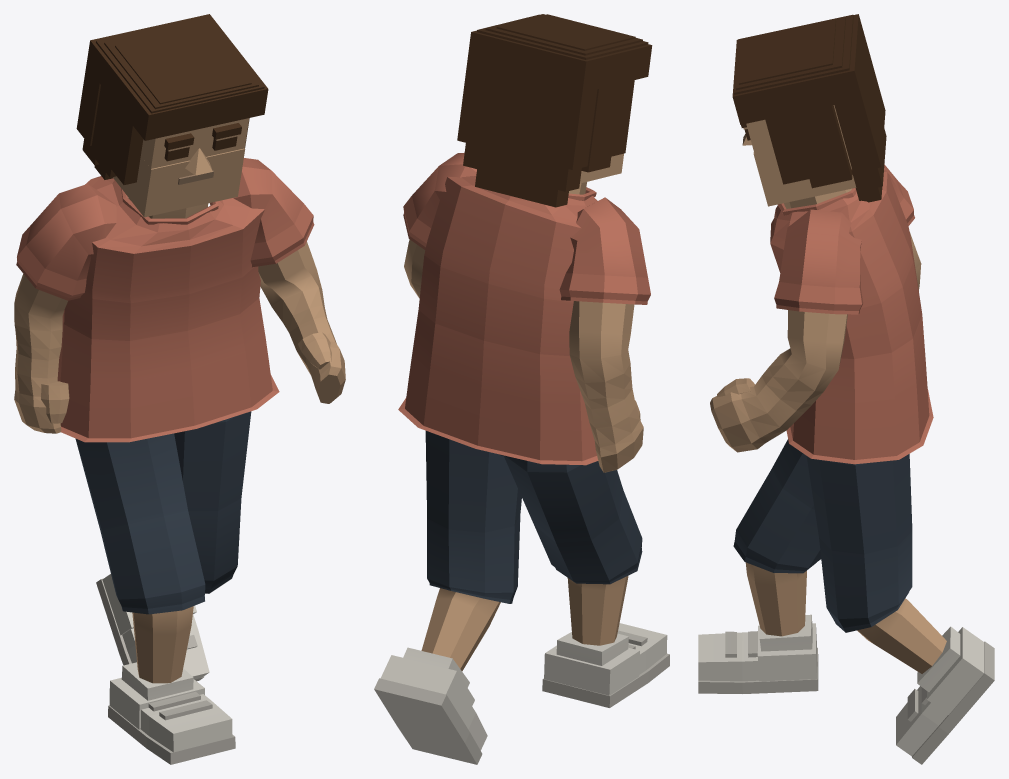
Rendered from neighborhood-child-8cc5ac__walk5.glb.
3 renders of one model, left to right at view 1: azimuth 30°, elevation 25°; view 2: azimuth 150°, elevation 25°; view 3: azimuth 270°, elevation 25°, orthographic. The views are drawn at different scales.
Parts seen in each view (by area): view 1: neighborhood-child-8cc5ac__walk5; view 2: neighborhood-child-8cc5ac__walk5; view 3: neighborhood-child-8cc5ac__walk5.
Part boxes in pixels (x1,y1,x2,y2): neighborhood-child-8cc5ac__walk5: (14,14,345,764); neighborhood-child-8cc5ac__walk5: (374,14,669,764); neighborhood-child-8cc5ac__walk5: (698,14,994,764).
Size of the model in its own units: 0.4763 by 1.21 by 0.4743.
